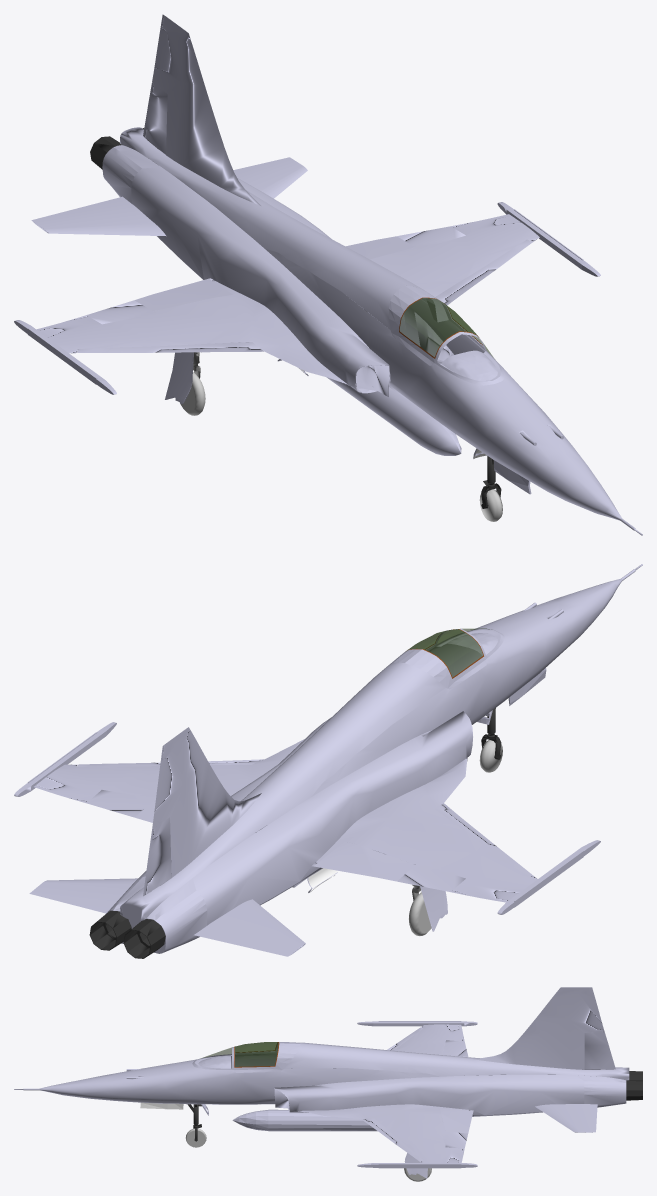
The picture shows the model from 3 angles, top to bottom: view 1: azimuth 30°, elevation 25°; view 2: azimuth 150°, elevation 25°; view 3: azimuth 270°, elevation 25°; orthographic projection. The views are drawn at different scales.
Parts seen in each view (by area): view 1: f5-lftw; view 2: f5-lftw; view 3: f5-lftw.
Boxes of the visible parts, x1=… form: f5-lftw: x1=14, y1=14, x2=642, y2=535; f5-lftw: x1=14, y1=564, x2=642, y2=958; f5-lftw: x1=14, y1=987, x2=642, y2=1181.
Size of the model in its own units: 13711 by 7150 by 25437.
